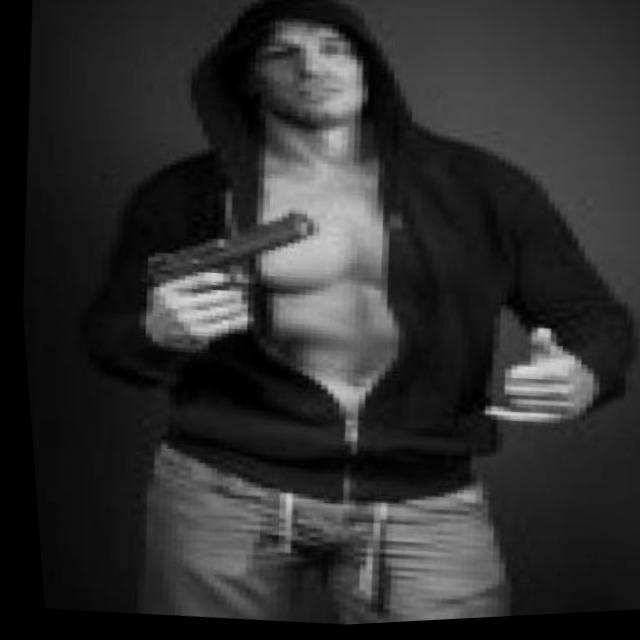weapon: (123, 193, 330, 368)
